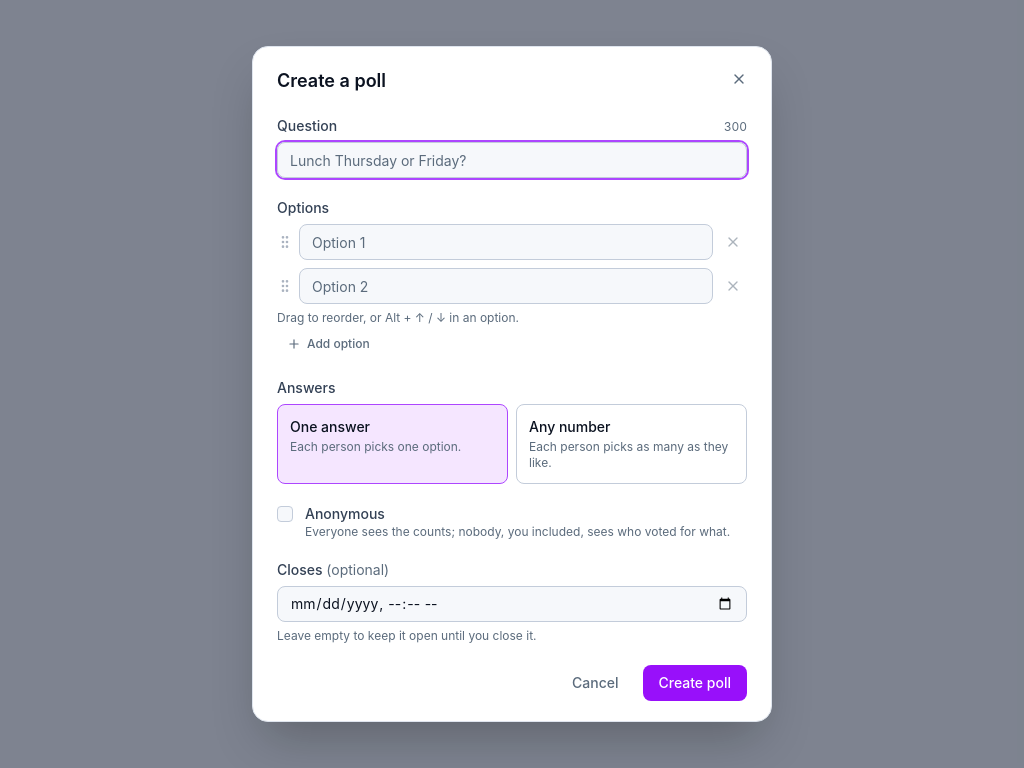
Test case: PollDialog › asks for a question and two options before sending anything
Click the button with test id "poll-dialog-submit".
click(695, 683)  # box [642, 665, 747, 701]
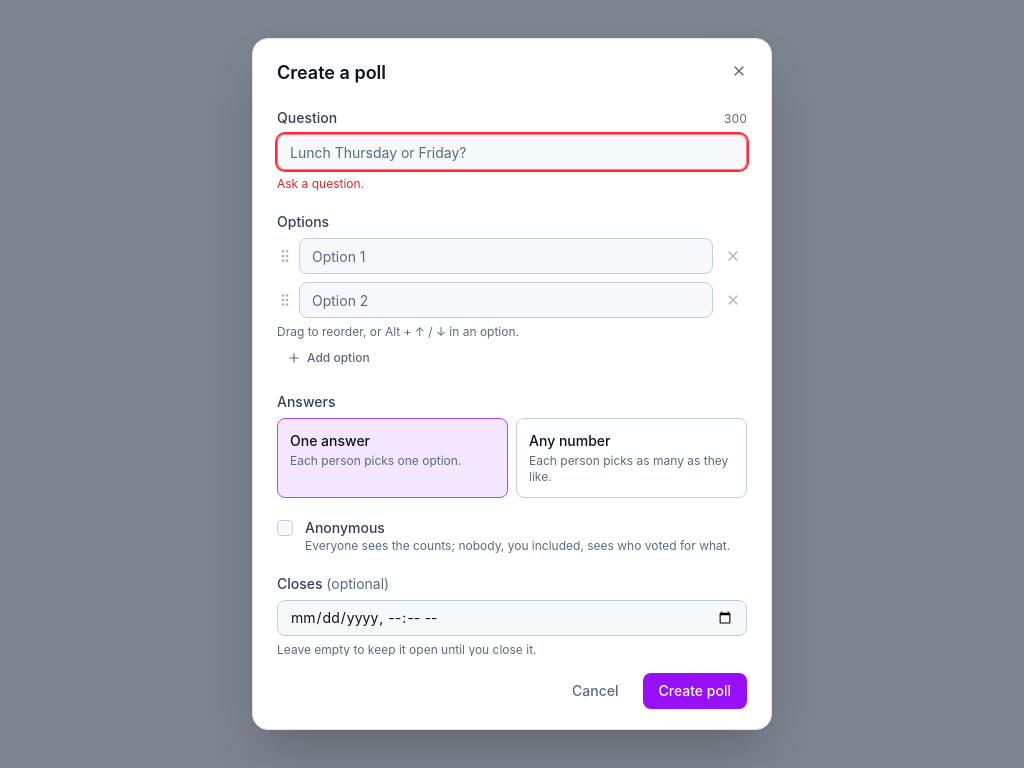
Expected: the text "Ask a question." is shown, [277, 176, 364, 191]
Type "Lunch?" into the field with test id "poll-dialog-question".
click(512, 152); type("Lunch?")  # box [277, 134, 747, 170]
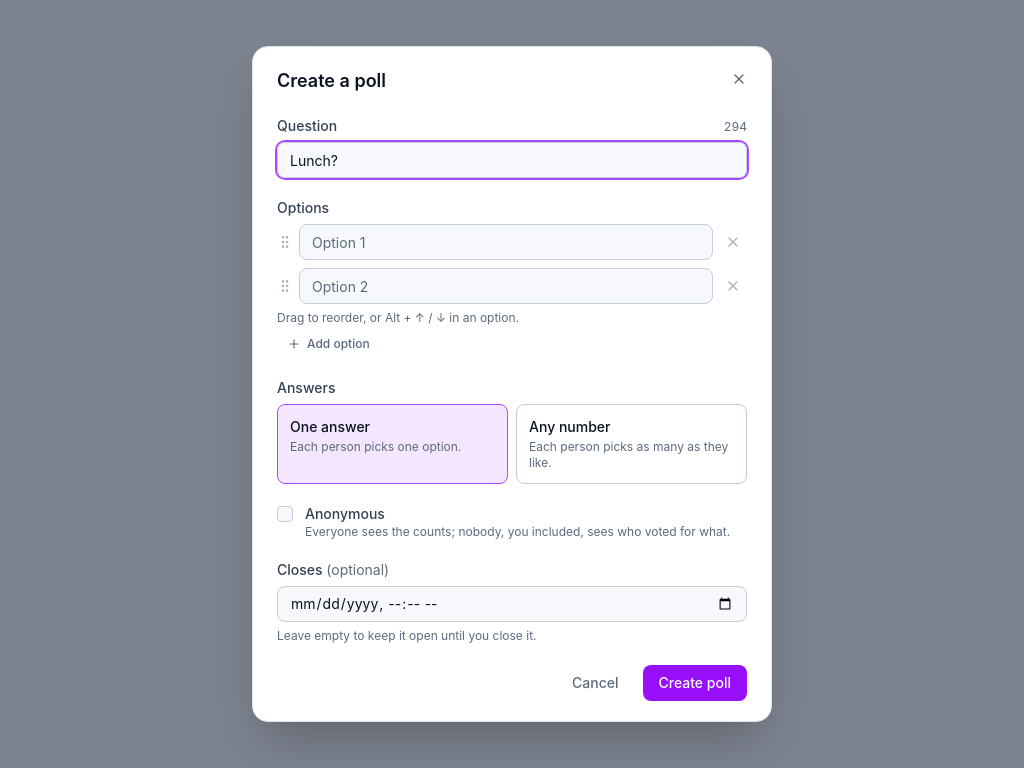
Type "Thursday" into the field with test id "poll-dialog-option-0".
click(506, 242); type("Thursday")  # box [299, 224, 713, 260]
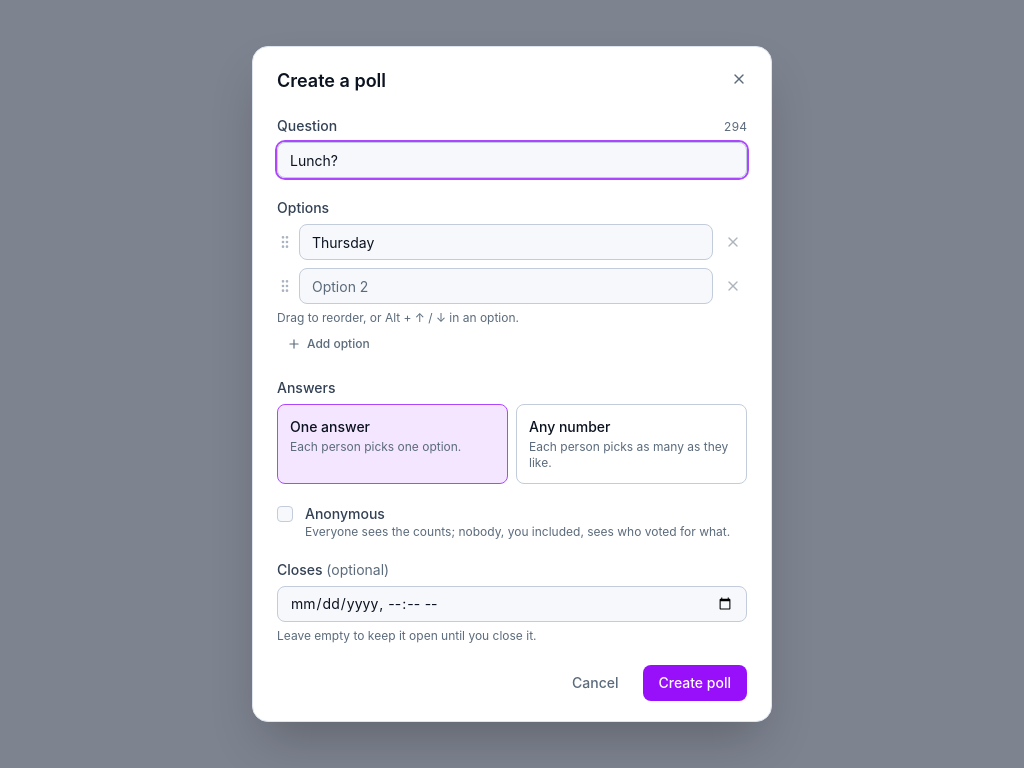
Click the button with test id "poll-dialog-submit".
click(695, 683)  # box [642, 665, 747, 701]
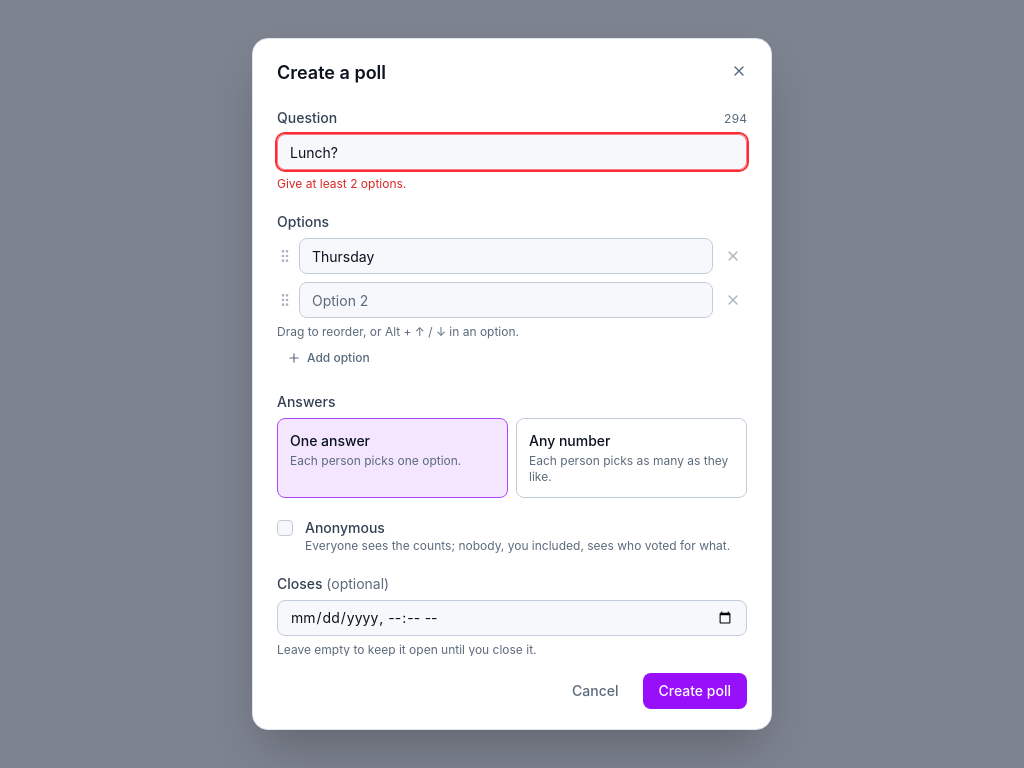
Expected: the text "Give at least 2 options." is shown, [277, 176, 406, 191]
